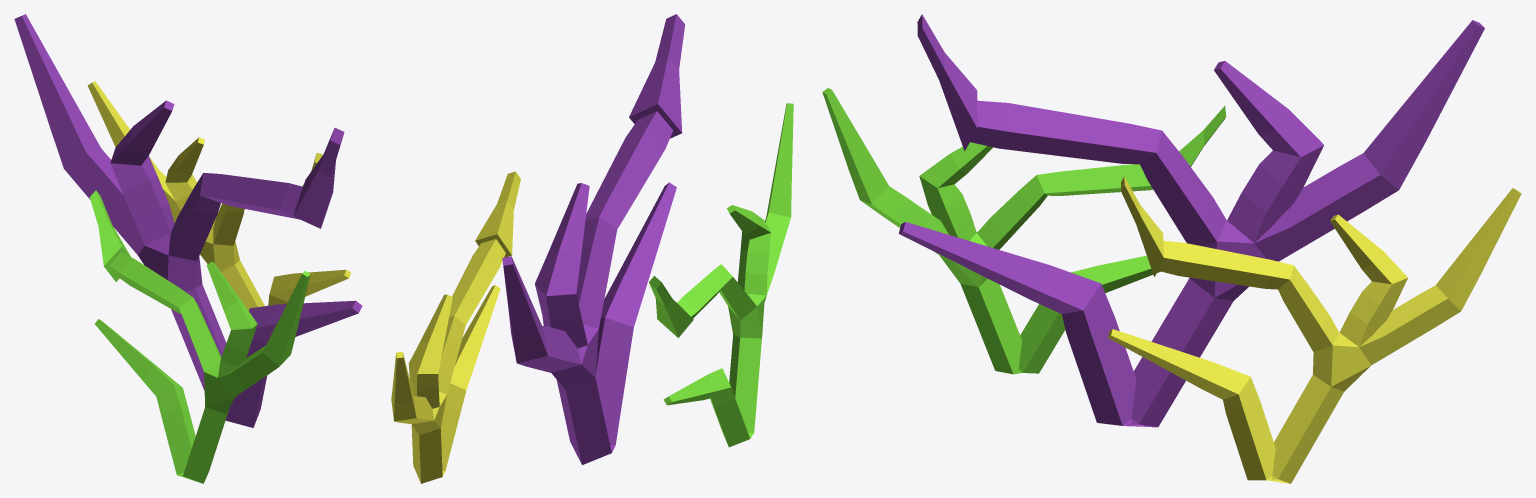
Rendered from KORAAL.fbx.
The picture shows the model from 3 angles, left to right: view 1: azimuth 30°, elevation 25°; view 2: azimuth 150°, elevation 25°; view 3: azimuth 270°, elevation 25°; orthographic projection. The views are drawn at different scales.
Visible parts, largest first — view 1: Cube, Cube.002, Cube.001; view 2: Cube, Cube.002, Cube.001; view 3: Cube, Cube.001, Cube.002.
Boxes of the visible parts, x1=… form: Cube: x1=14, y1=14, x2=362, y2=427; Cube.002: x1=89, y1=190, x2=310, y2=483; Cube.001: x1=87, y1=81, x2=350, y2=310; Cube: x1=502, y1=14, x2=685, y2=464; Cube.002: x1=649, y1=103, x2=793, y2=447; Cube.001: x1=391, y1=171, x2=520, y2=483; Cube: x1=898, y1=14, x2=1484, y2=427; Cube.001: x1=1108, y1=176, x2=1521, y2=483; Cube.002: x1=822, y1=88, x2=1226, y2=374.
Bounding box in the file's own units: 150 × 228 × 344.
